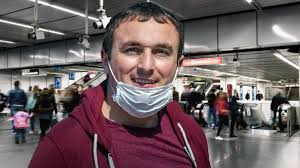mask_weared_incorrect: (114, 37, 177, 104)
